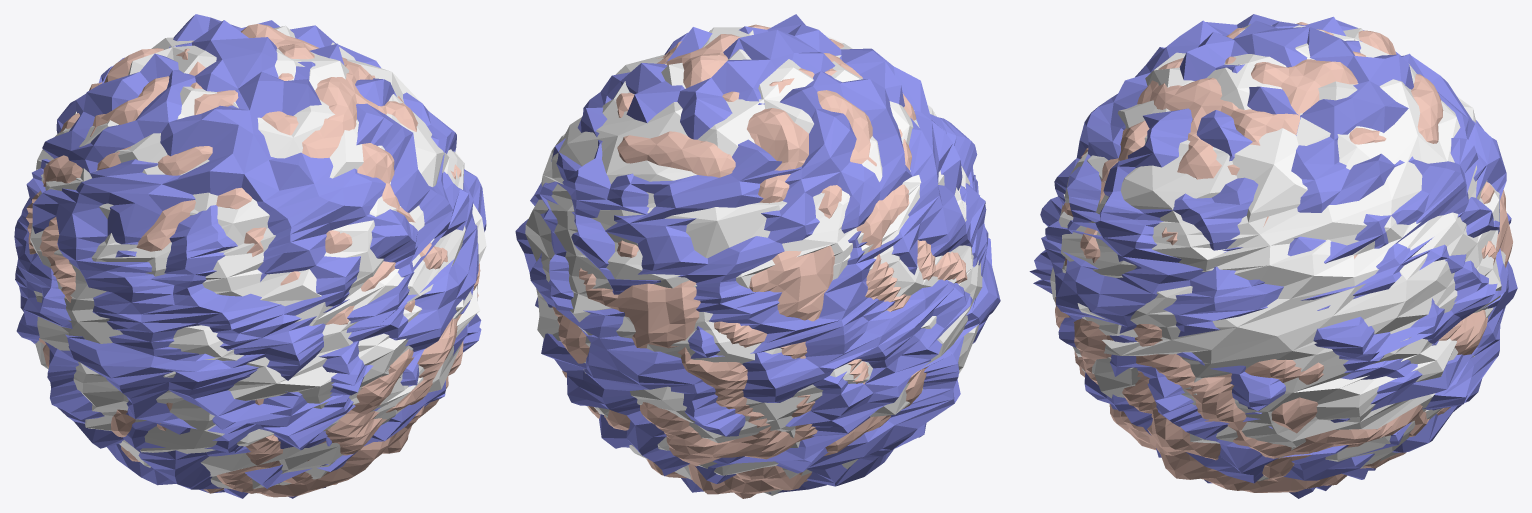
File: mecury.gltf
The picture shows the model from 3 angles, left to right: view 1: azimuth 30°, elevation 25°; view 2: azimuth 150°, elevation 25°; view 3: azimuth 270°, elevation 25°; orthographic projection.
Parts seen in each view (by area): view 1: Mercury_Sphere_211, Mercury_Sphere_14, Mercury_Sphere6; view 2: Mercury_Sphere_211, Mercury_Sphere6, Mercury_Sphere_14; view 3: Mercury_Sphere_211, Mercury_Sphere_14, Mercury_Sphere6.
Part boxes in pixels (left/top/right/bottom): Mercury_Sphere_211: left=14, top=14, right=486, bottom=498; Mercury_Sphere_14: left=30, top=25, right=486, bottom=491; Mercury_Sphere6: left=26, top=24, right=480, bottom=497; Mercury_Sphere_211: left=515, top=14, right=1000, bottom=493; Mercury_Sphere6: left=552, top=24, right=967, bottom=498; Mercury_Sphere_14: left=525, top=27, right=982, bottom=495; Mercury_Sphere_211: left=1029, top=14, right=1517, bottom=498; Mercury_Sphere_14: left=1050, top=24, right=1505, bottom=481; Mercury_Sphere6: left=1055, top=22, right=1512, bottom=492.
Bounding box in the file's own units: 0.0106 × 0.0108 × 0.0109.
